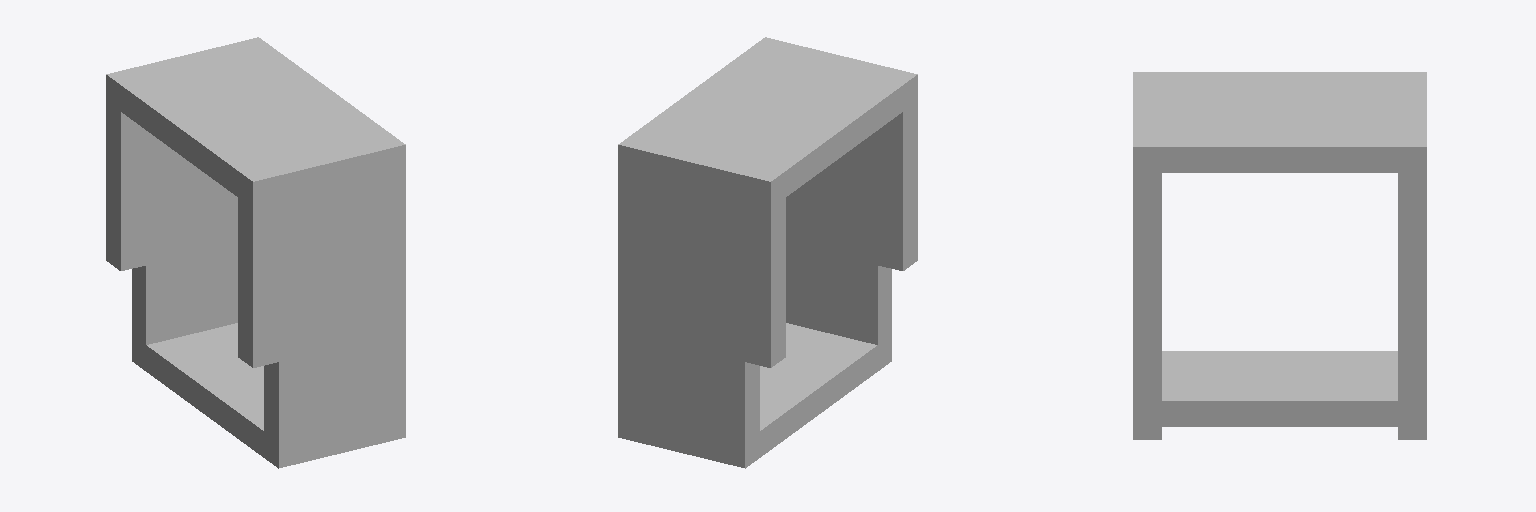
File: 05_final_hallway03.obj
3 renders of one model, left to right at view 1: azimuth 30°, elevation 25°; view 2: azimuth 150°, elevation 25°; view 3: azimuth 270°, elevation 25°, orthographic.
Size of the model in its own units: 6 by 11 by 10.